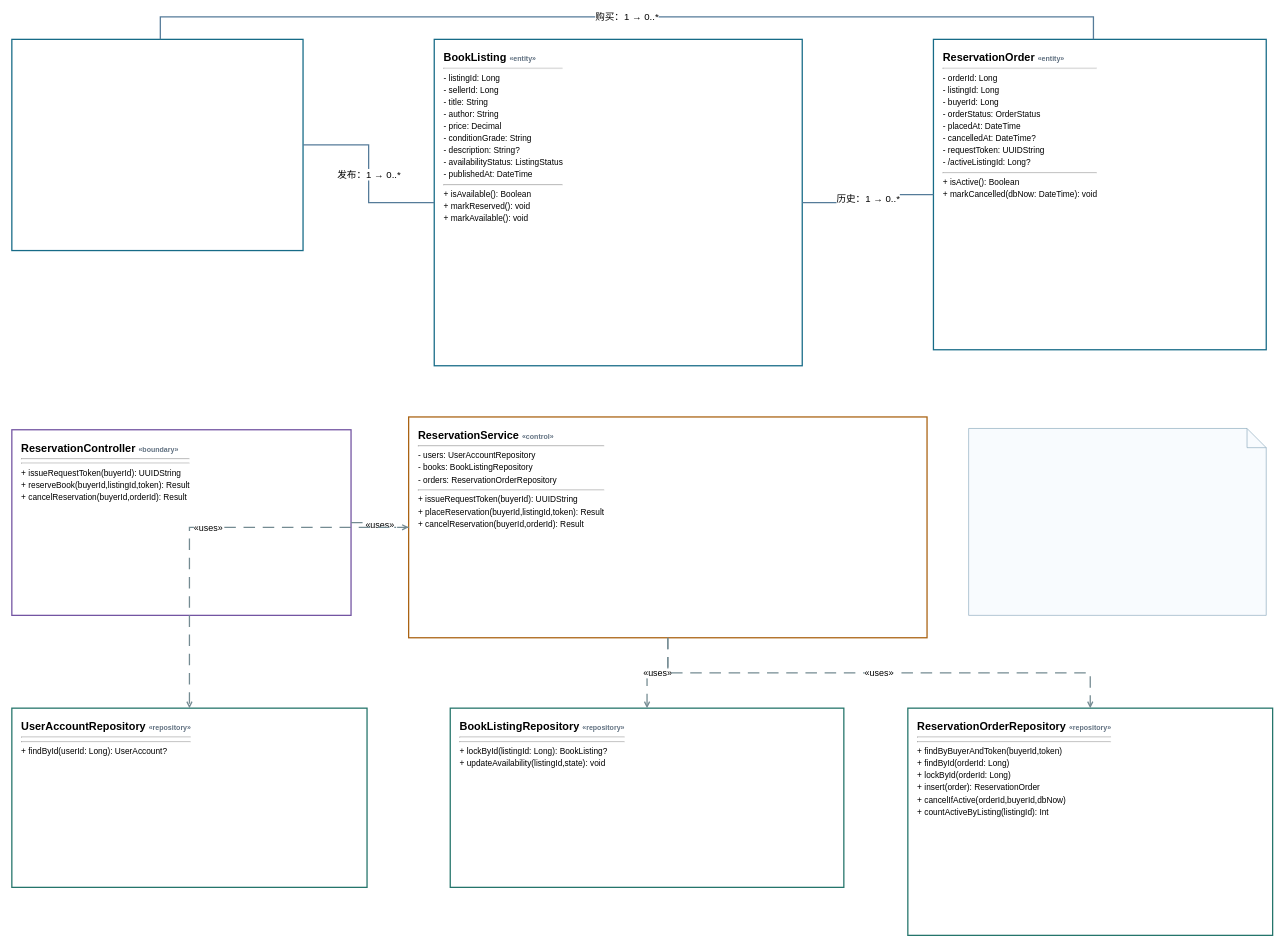
This 1284x947 diagram has some shape labels left out. Here are the shapes that lost their labels. From the top down, the centre of each, then its label:
pixel 157 144: UserAccount «entity» - userId: Long - accountCode: String （无独立业务变更操作）
pixel 1117 521: 设计不变量（均未实测） • 同书有效订单≤1；取消历史保留 • 禁止自购；已取消订单不可复活 • 书籍与有效订单状态由同一事务维护
